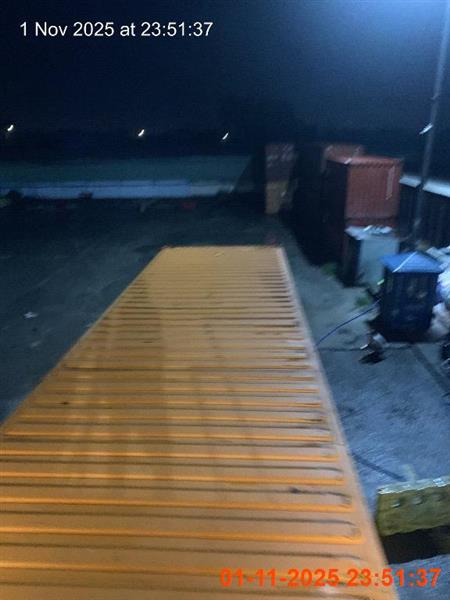crack: (1, 242, 399, 599)
